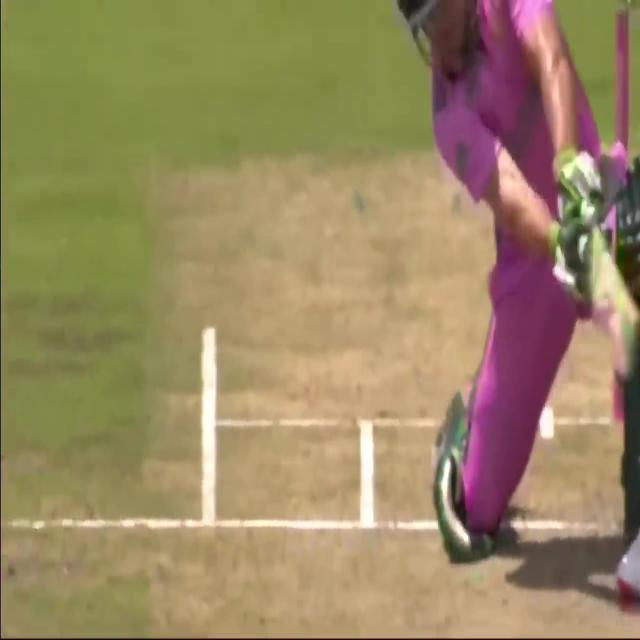Ball: (382, 0, 639, 589)
